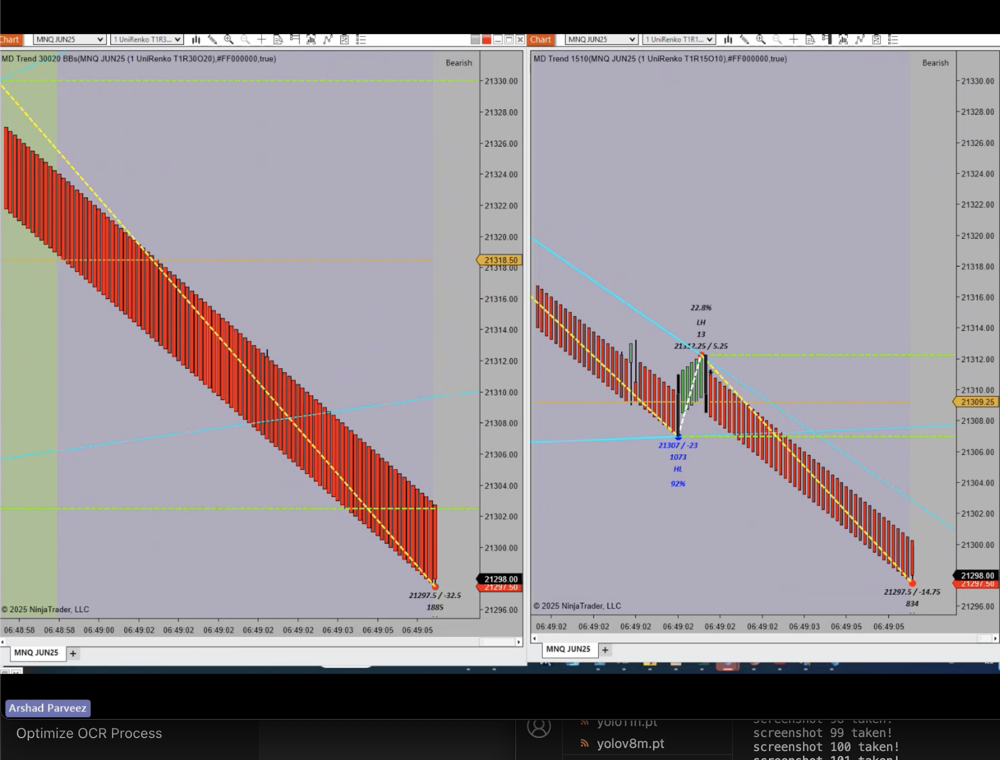HL: (668, 462, 688, 478)
LH: (691, 317, 711, 331)
